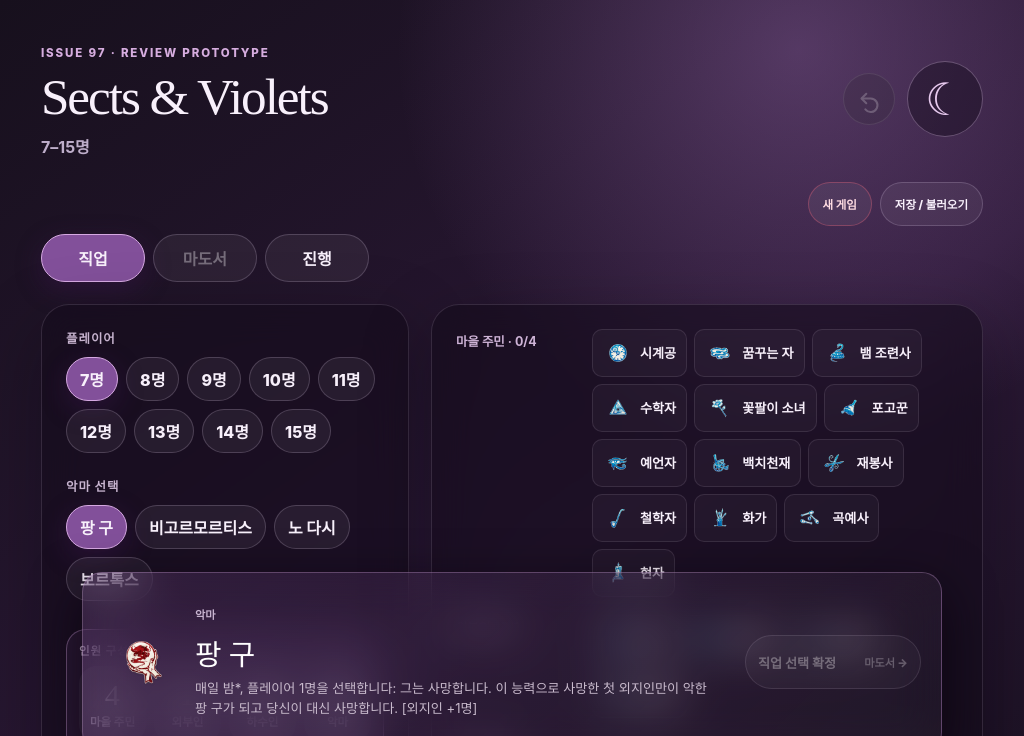
Test case: shows official reminder inventory without developer metadata
Click the button "뱀 조련사": [867, 353] box top-left (812, 329), bottom-right (922, 377)
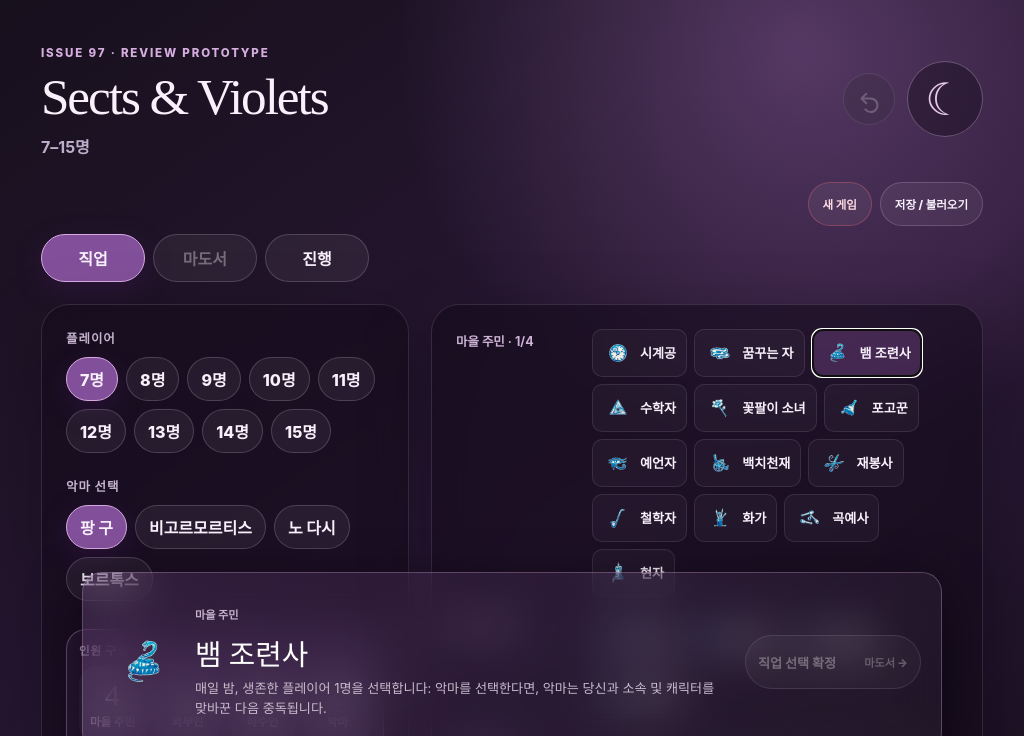
Click the button with aria-label "뱀 조련사 캐릭터 상세 열기": [145, 662] box top-left (103, 598), bottom-right (729, 726)
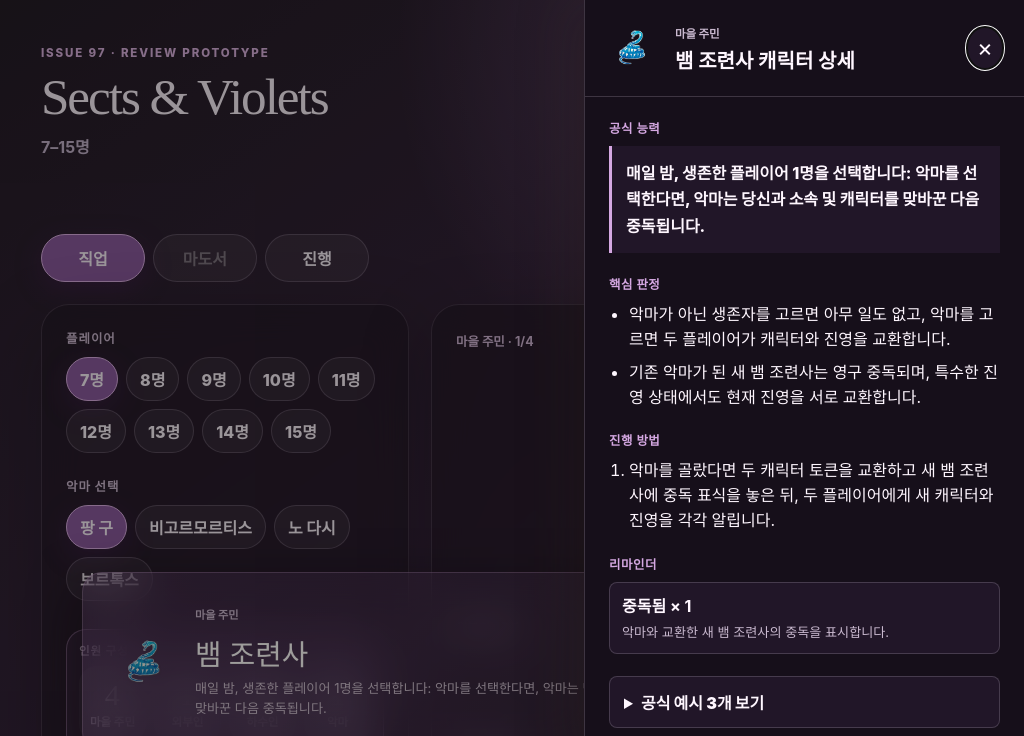
Check: the heading "리마인더" is shown, box top-left (609, 557), bottom-right (657, 572)
Check: the text "중독됨 × 1" is shown, box top-left (622, 596), bottom-right (692, 616)
Check: the text "악마와 교환한 새 뱀 조련사의 중독을 표시합니다." is shown, box top-left (622, 624), bottom-right (889, 640)
